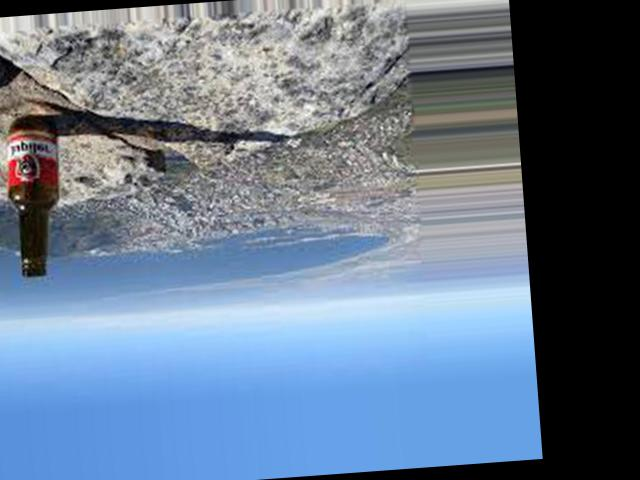beer: (2, 120, 67, 279)
